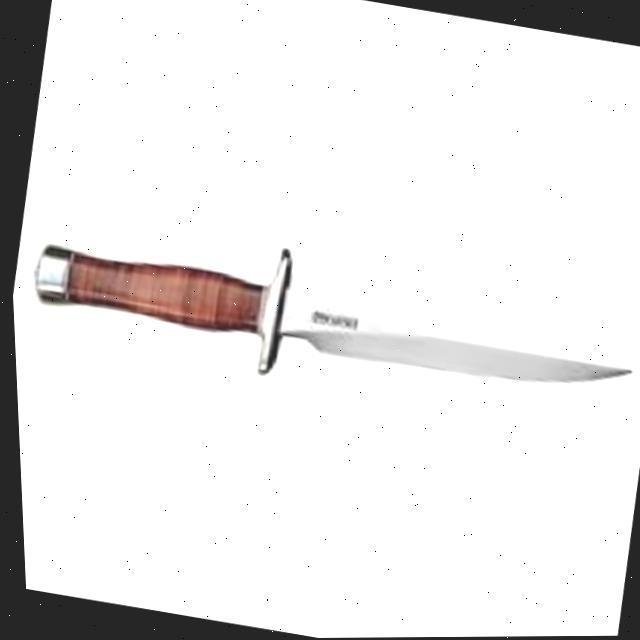knife: (18, 201, 640, 437)
